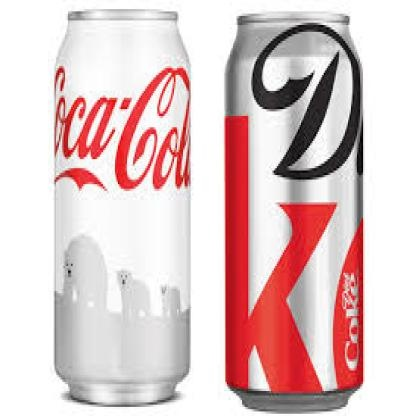trash: (225, 13, 362, 410), (54, 10, 189, 404)
